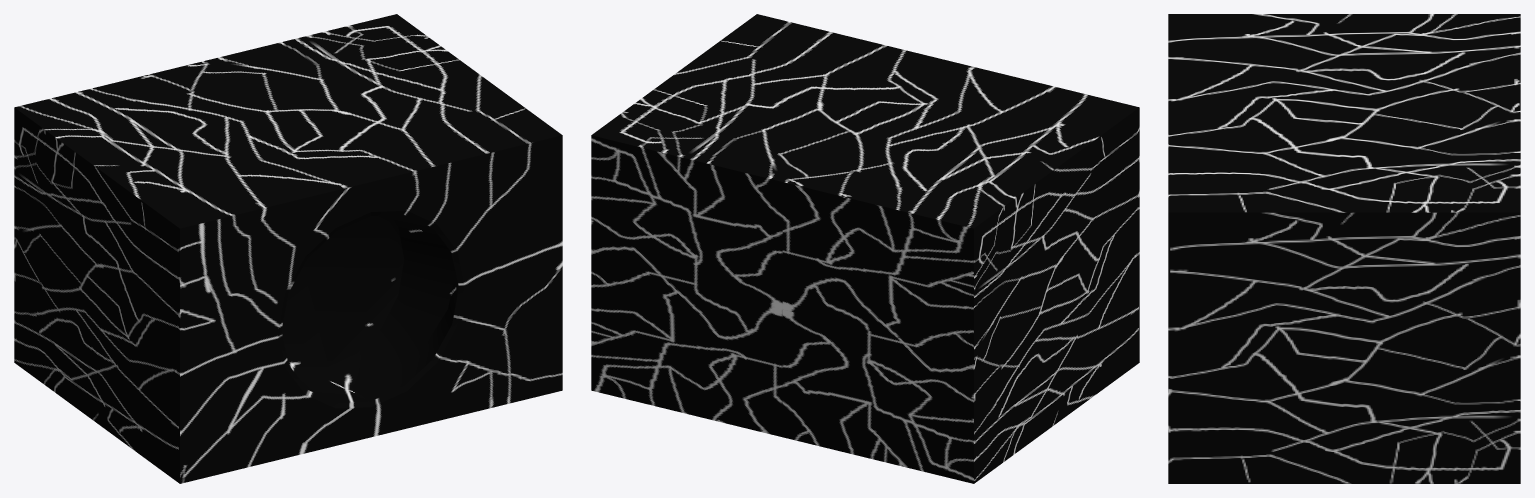
Rendered from CuboidBox.fbx.
The picture shows the model from 3 angles, left to right: view 1: azimuth 30°, elevation 25°; view 2: azimuth 150°, elevation 25°; view 3: azimuth 270°, elevation 25°; orthographic projection. The views are drawn at different scales.
Visible parts, largest first — view 1: Cube.003; view 2: Cube.003; view 3: Cube.003.
Part boxes in pixels (box(x1,y1,x2,y2)): Cube.003: box(14, 14, 562, 483); Cube.003: box(591, 14, 1139, 483); Cube.003: box(1168, 14, 1520, 483).
Bounding box in the file's own units: 16 × 10.2 × 12.
